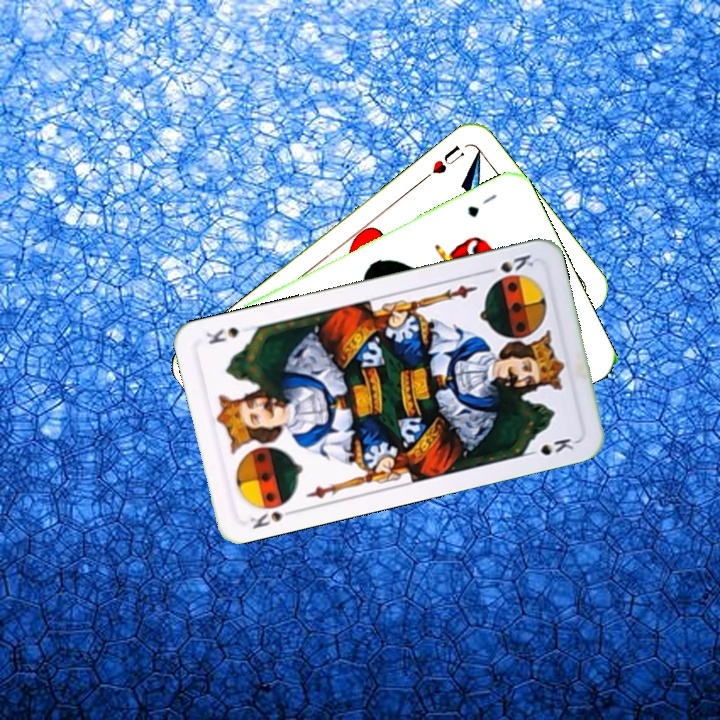GU: (463, 189, 499, 220)
HU: (419, 141, 467, 183)
SK: (479, 250, 536, 276), (246, 505, 300, 532)
